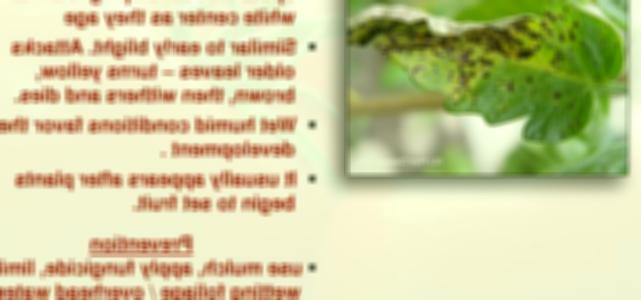Tomato Septoria leaf spot: (352, 0, 617, 154)
